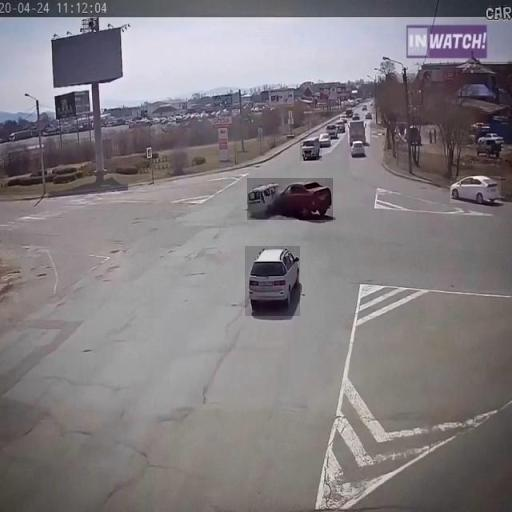小汽车: (245, 246, 300, 316), (450, 176, 501, 203), (300, 138, 322, 161), (348, 121, 370, 143)
小汽车撞小汽车: (247, 178, 333, 220)
